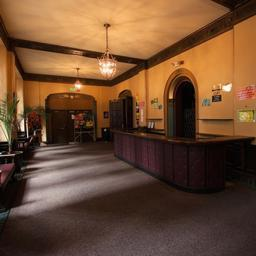Matera: (0, 102, 24, 166)
Puerta: (53, 111, 65, 144), (110, 100, 123, 126), (126, 97, 135, 126)
